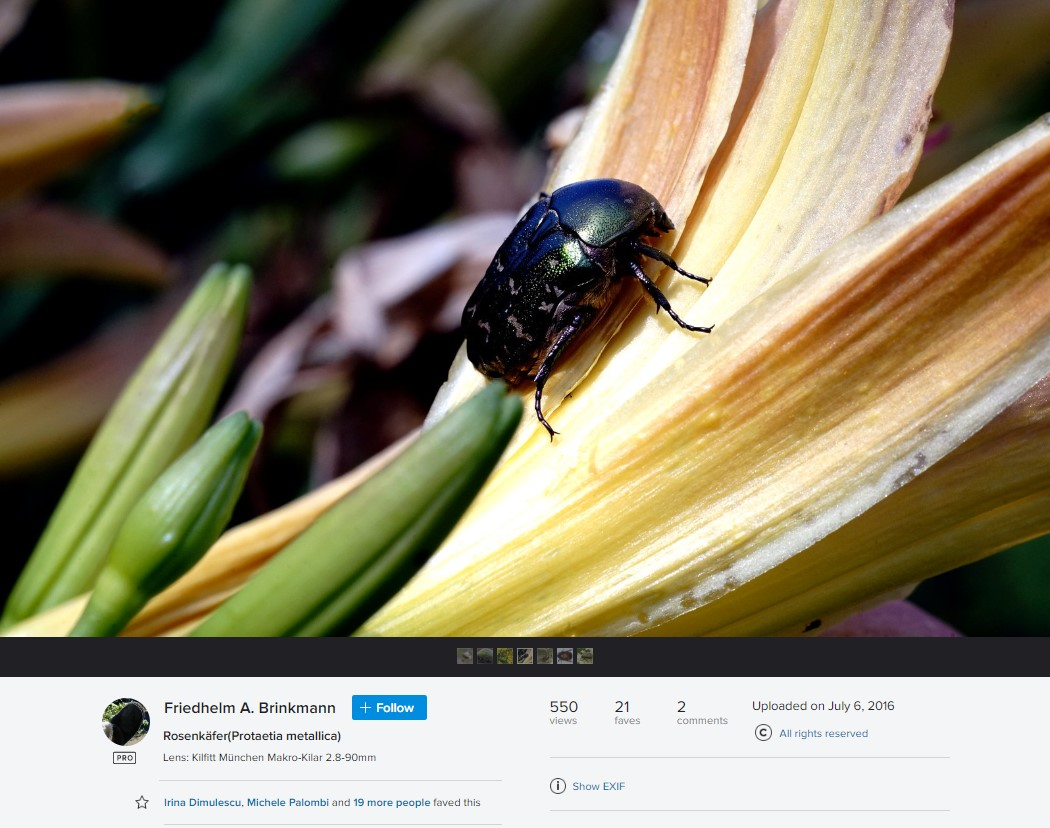Protaetia_metallica: (433, 176, 725, 453)
